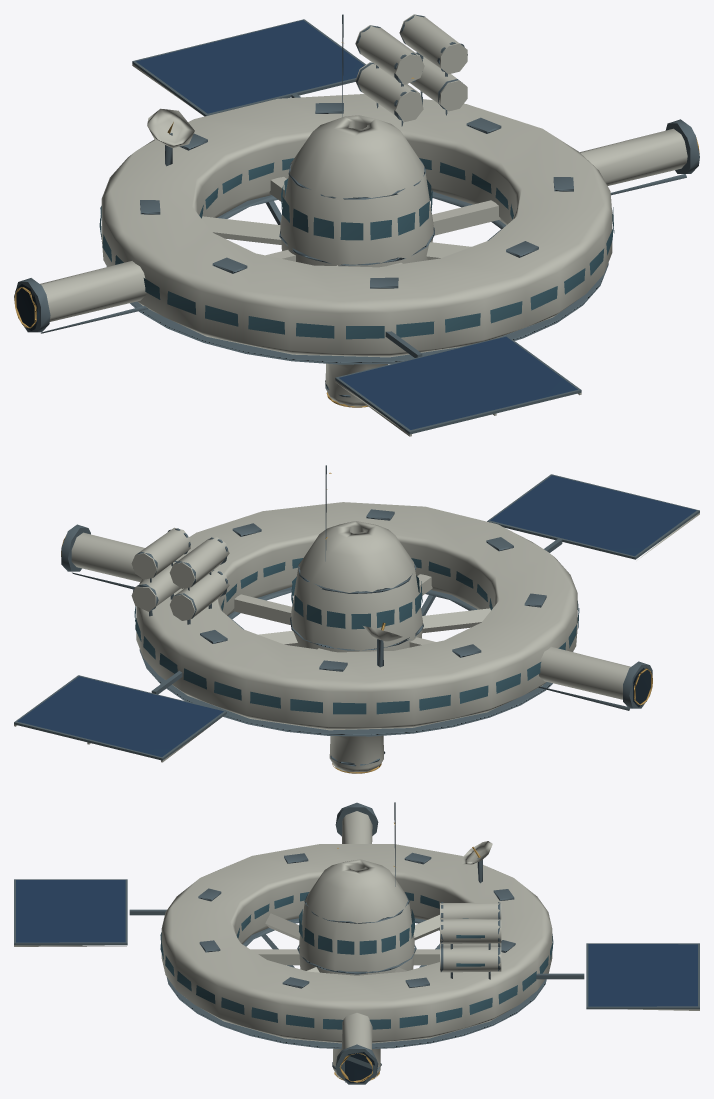
The model's file is orbital_d0_lod2.glb.
3 views of the same model, one above another, from view 1: azimuth 30°, elevation 25°; view 2: azimuth 150°, elevation 25°; view 3: azimuth 270°, elevation 25° (orthographic). The views are drawn at different scales.
Visible parts, largest first — view 1: DISTANCE_STATIC; view 2: DISTANCE_STATIC; view 3: DISTANCE_STATIC.
Part boxes in pixels (x1,y1,x2,y2): DISTANCE_STATIC: (14,14,699,436); DISTANCE_STATIC: (14,465,699,773); DISTANCE_STATIC: (14,802,699,1084).
Size of the model in its own units: 61.76 by 32 by 72.4.
